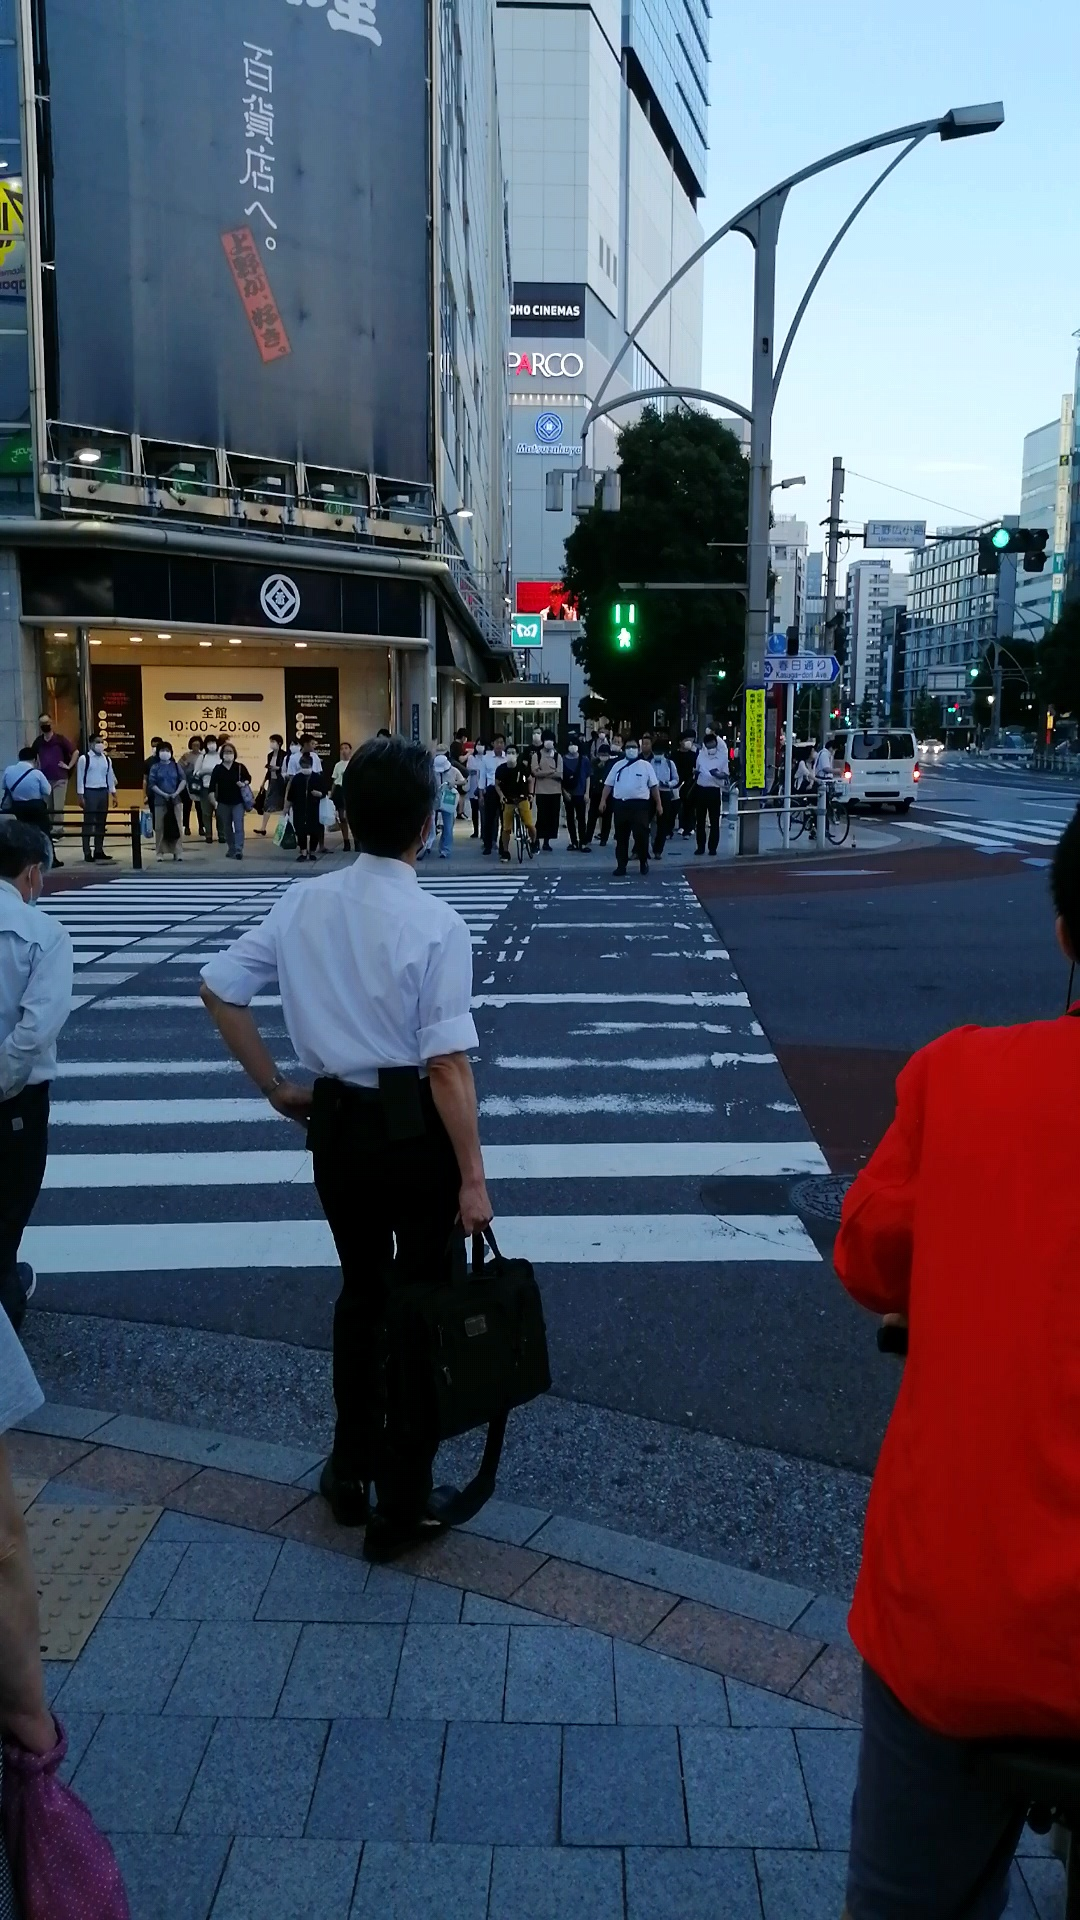green: (608, 597, 641, 655)
